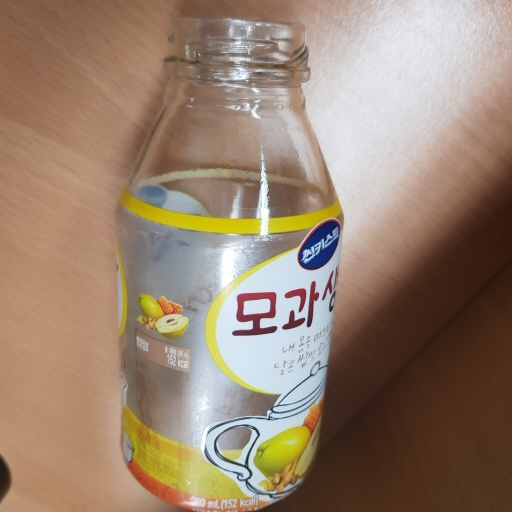Glass_4: (107, 12, 347, 511)
